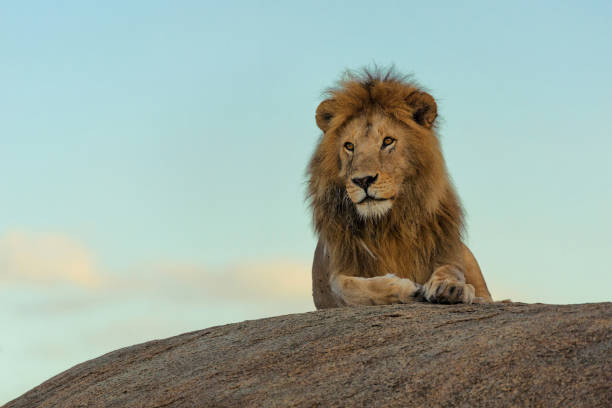lion: (295, 53, 472, 268)
